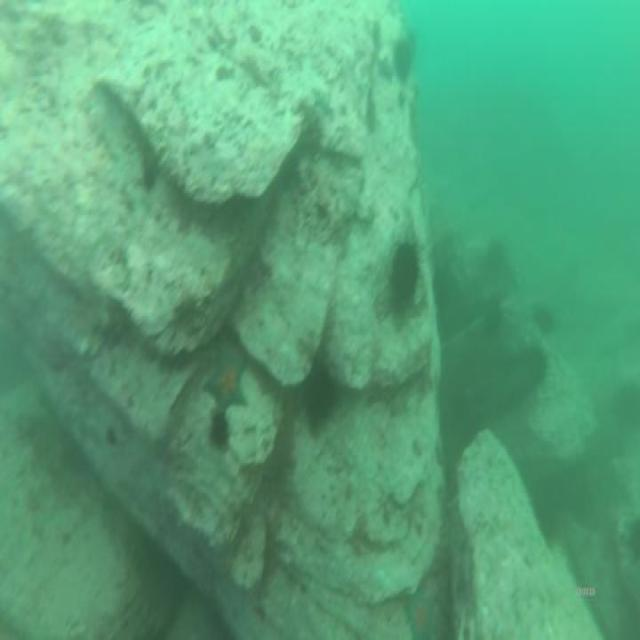echinus: (303, 364, 334, 421), (393, 244, 419, 306), (484, 292, 502, 335), (393, 36, 411, 79), (212, 414, 228, 447)
starfish: (205, 349, 247, 408)
